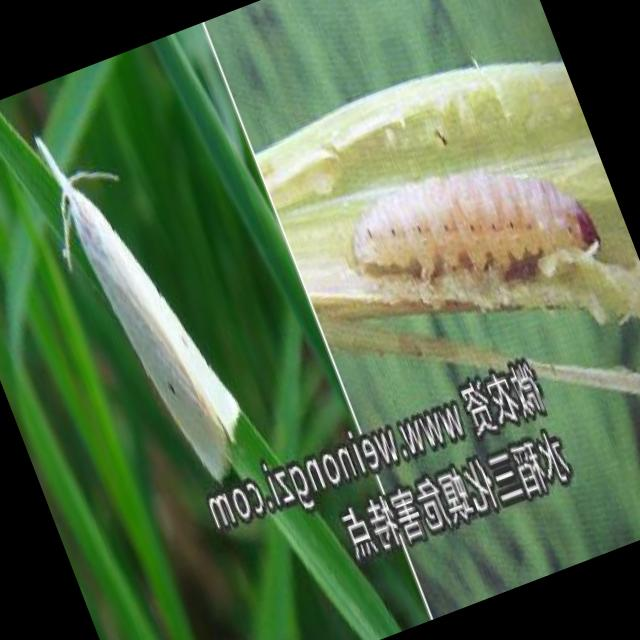stem-borer: (34, 133, 244, 488)
